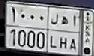0: (27, 9, 36, 49), (37, 8, 45, 50), (18, 7, 26, 48), (10, 6, 17, 49)
A: (70, 14, 76, 51)
H: (60, 15, 69, 50)
L: (50, 10, 59, 49)
